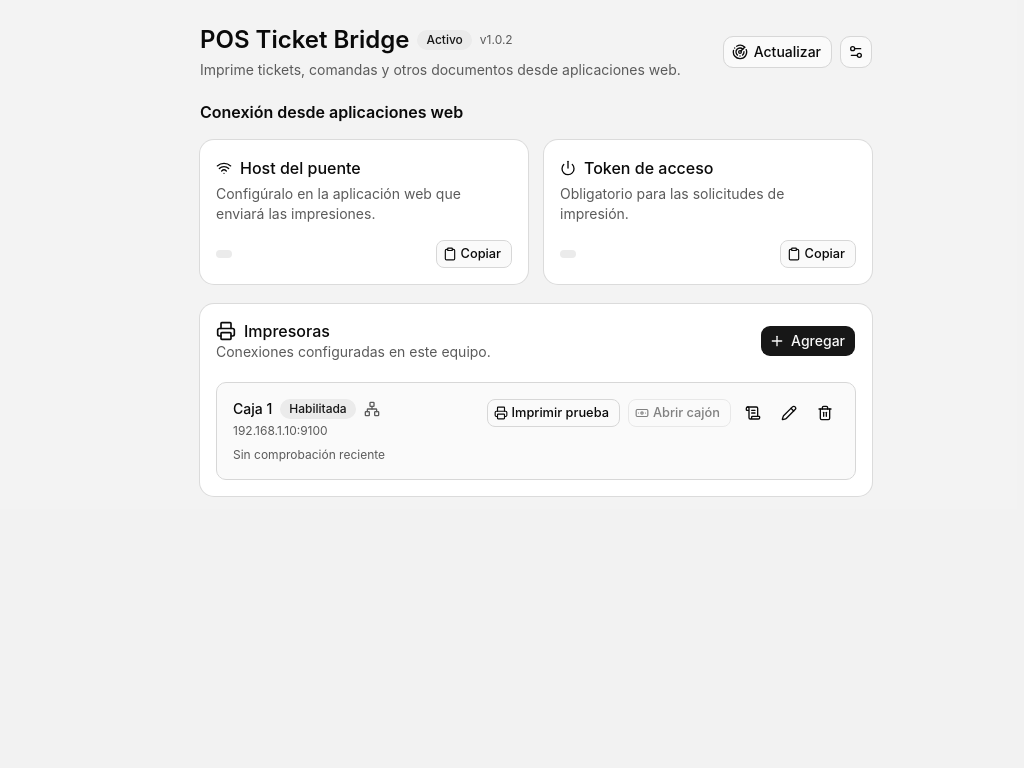
Test: App › opens a printer's diagnostics from the printer list
Click the button named "Diagnóstico de impresión" at (753, 413), box left=739, top=399, right=767, bottom=427
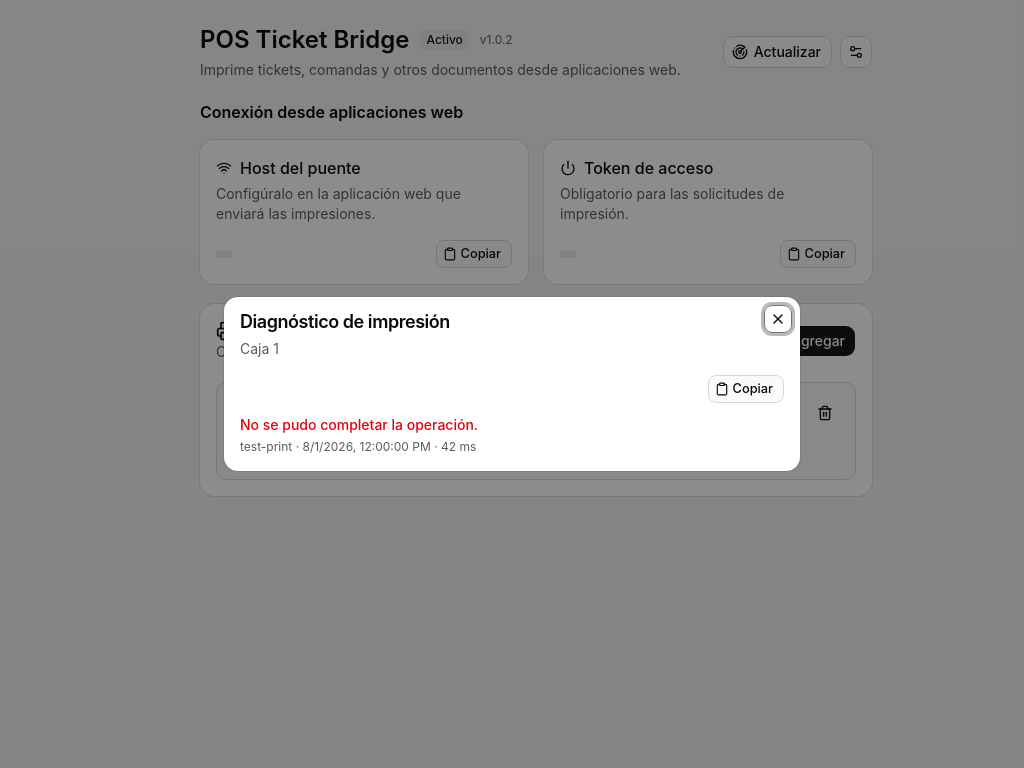
Result: the dialog is shown at left=224, top=297, right=800, bottom=471
